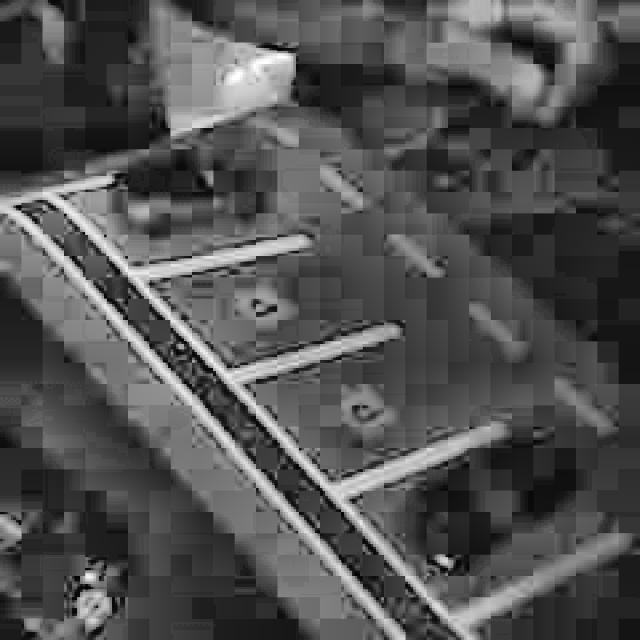car: (400, 436, 577, 581), (104, 142, 282, 242)
